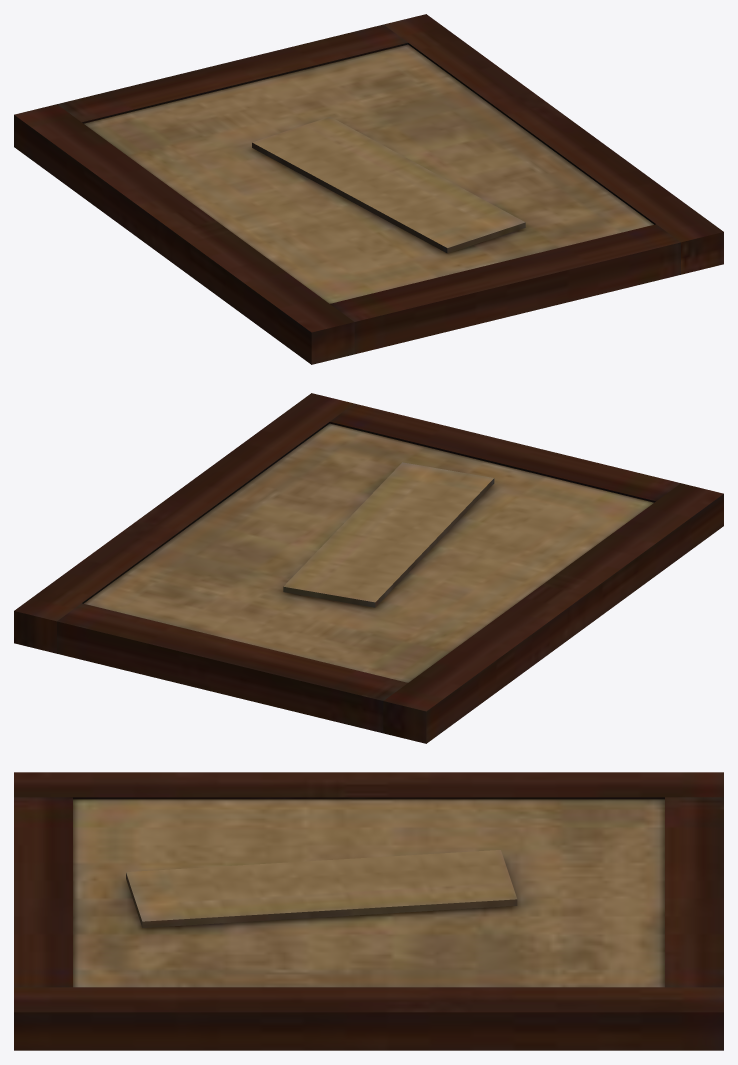
File: photo_frame_lod1_web.glb
The picture shows the model from 3 angles, top to bottom: view 1: azimuth 30°, elevation 25°; view 2: azimuth 150°, elevation 25°; view 3: azimuth 270°, elevation 25°; orthographic projection. The views are drawn at different scales.
Parts seen in each view (by area): view 1: PhotoFrame_Body; view 2: PhotoFrame_Body; view 3: PhotoFrame_Body.
Boxes of the visible parts, x1,y1,x2,y2 form: PhotoFrame_Body: [14, 14, 723, 364]; PhotoFrame_Body: [14, 393, 723, 743]; PhotoFrame_Body: [14, 772, 723, 1050].
Size of the model in its own units: 0.24 by 0.021 by 0.3.
Materials: 1 (1 with a texture image).
